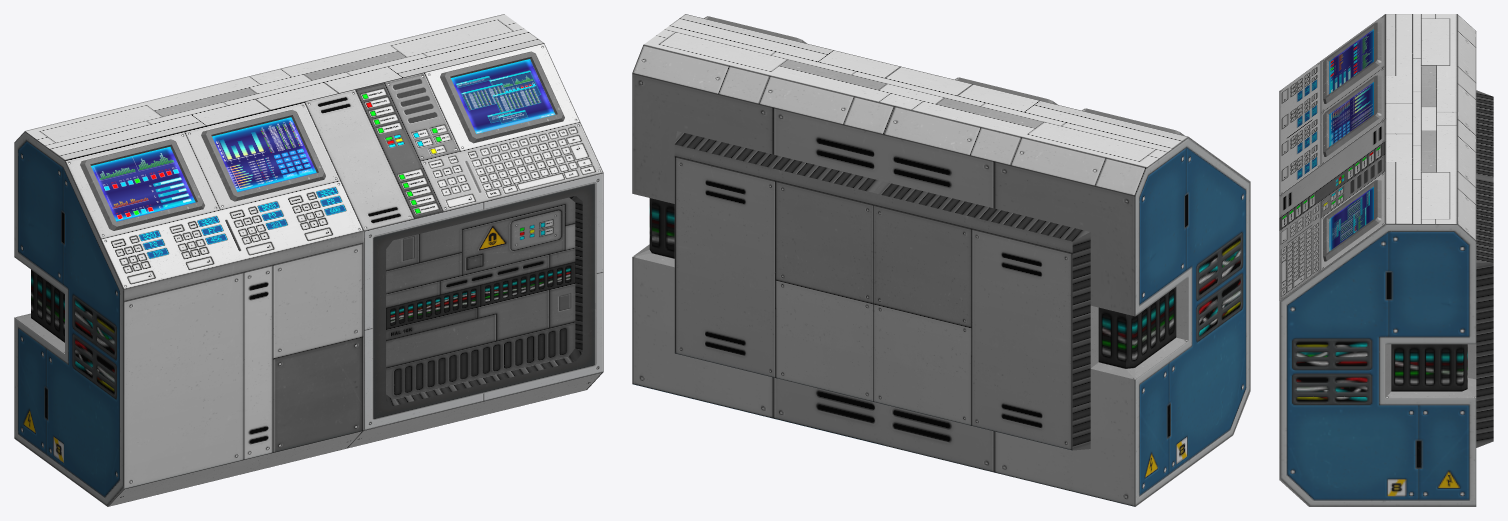
The model's file is Computer_Big_01.FBX.
3 renders of one model, left to right at view 1: azimuth 30°, elevation 25°; view 2: azimuth 150°, elevation 25°; view 3: azimuth 270°, elevation 25°, orthographic. The views are drawn at different scales.
Visible parts, largest first — view 1: Computer_Big_01, Screen_Left, Screen_Right; view 2: Computer_Big_01; view 3: Computer_Big_01, Screen_Left, Screen_Right.
Part boxes in pixels (x1,y1,x2,y2): Computer_Big_01: (14,14,603,506); Screen_Left: (91,117,316,221); Screen_Right: (451,59,555,133); Computer_Big_01: (632,14,1250,506); Computer_Big_01: (1279,14,1493,506); Screen_Left: (1329,29,1373,146); Screen_Right: (1329,187,1373,251).
Size of the model in its own units: 84 by 52.84 by 36.28.
